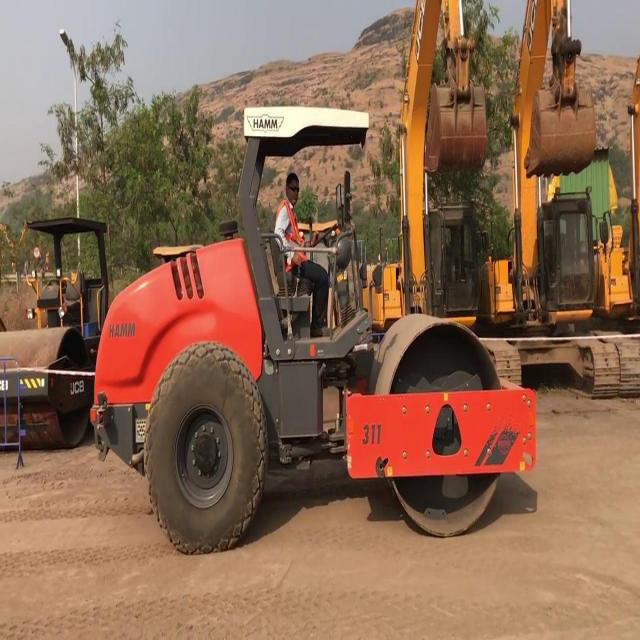Excavator: (490, 0, 618, 407), (363, 0, 488, 324)
Roller: (95, 106, 533, 532), (0, 217, 110, 434)
